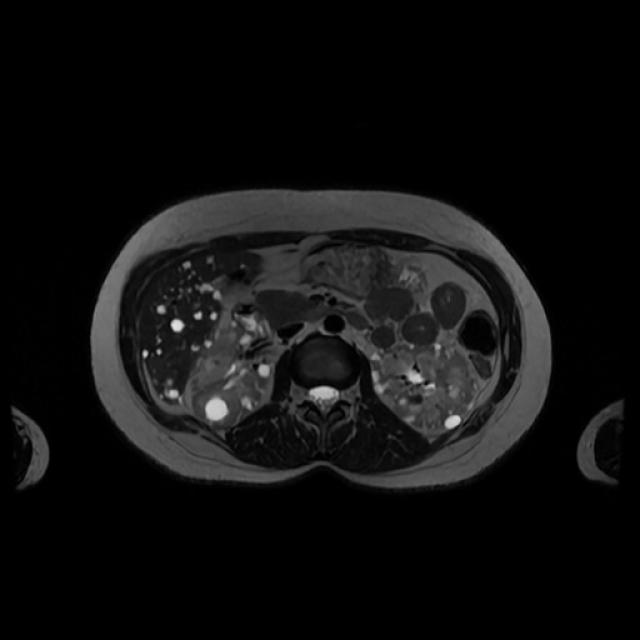sag: (191, 319, 274, 427)
sol: (368, 343, 477, 431)
